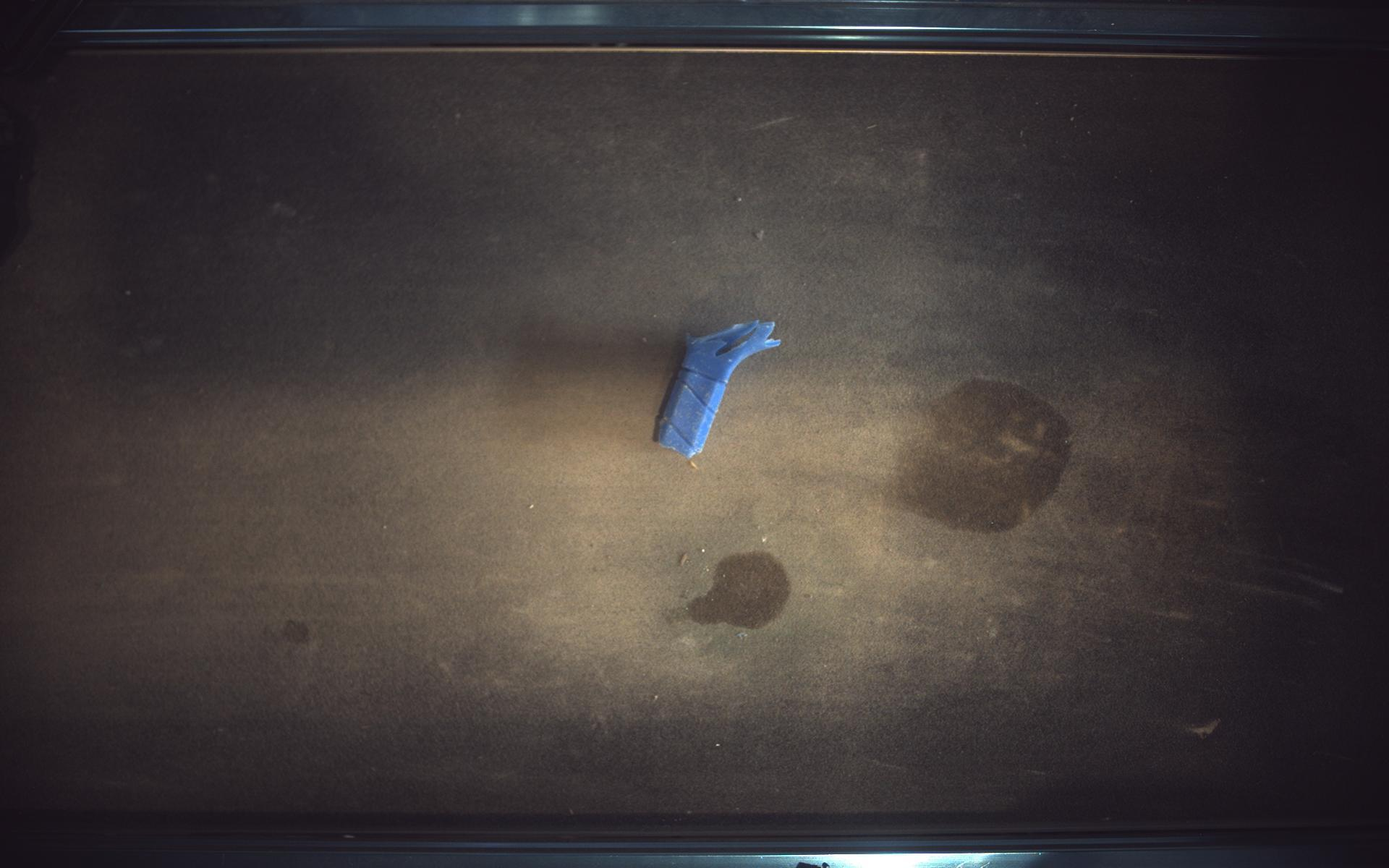plastic: (654, 320, 781, 459)
